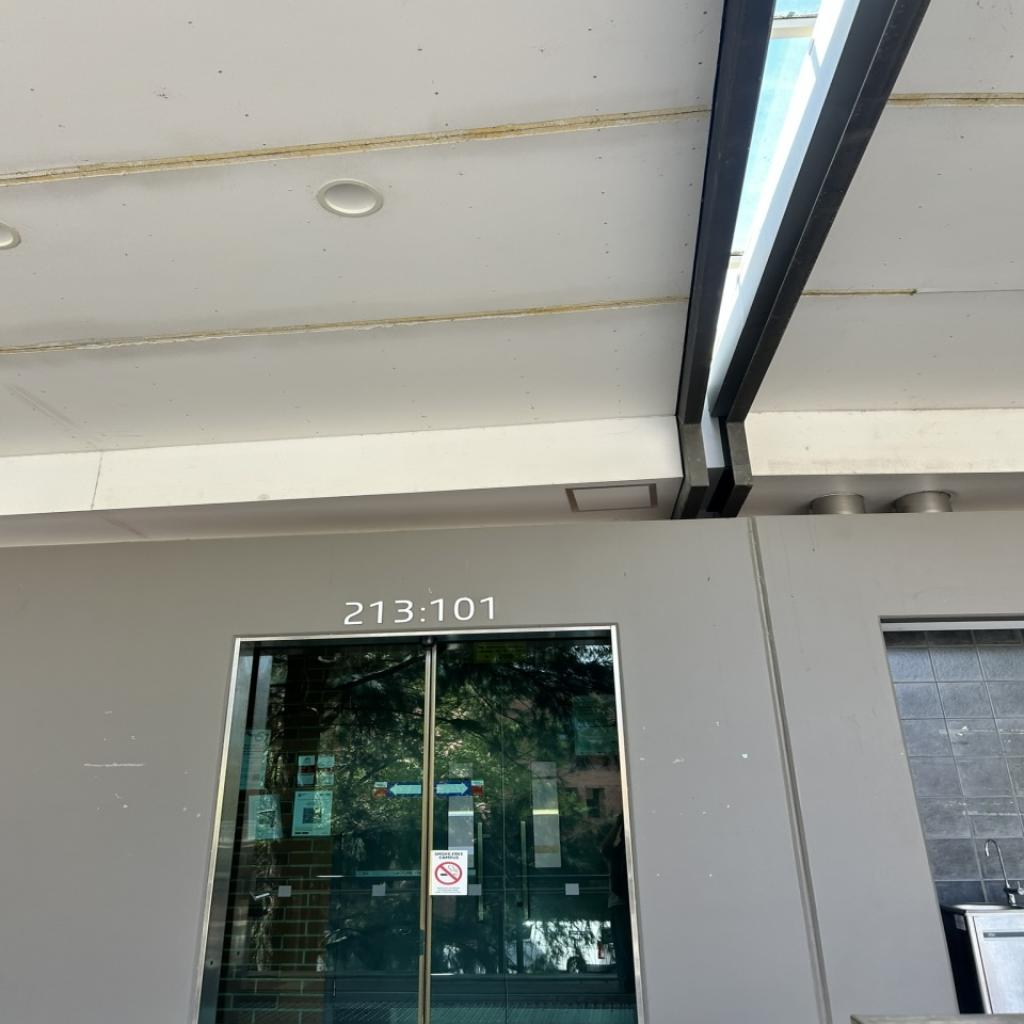BuildingCodes: (428, 596, 496, 624), (343, 600, 415, 626)
